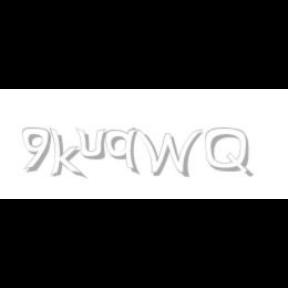9: (22, 128, 51, 172)
Q: (205, 128, 251, 178)
W: (131, 128, 203, 178)
k: (49, 128, 87, 180)
q: (105, 128, 141, 176)
u: (76, 128, 110, 160)
